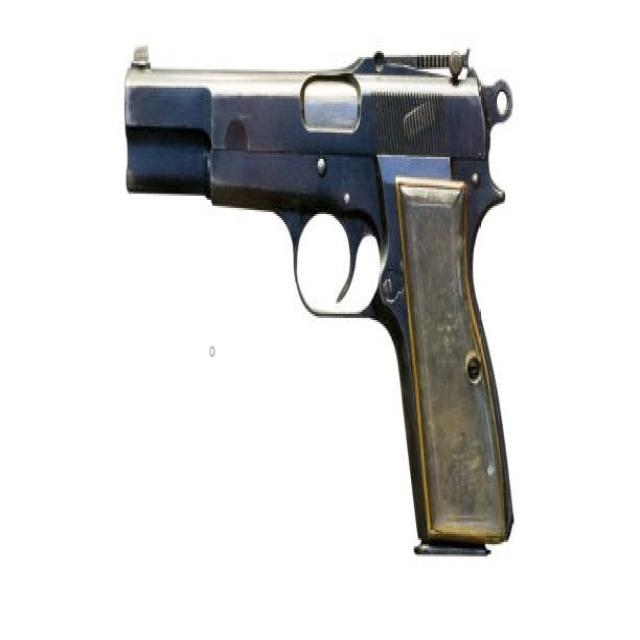pistol: (122, 31, 526, 564)
